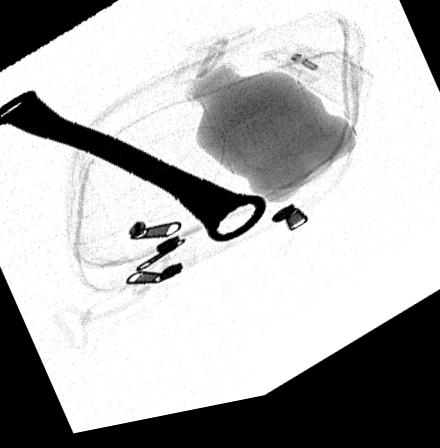Wrench: (0, 90, 267, 254)
